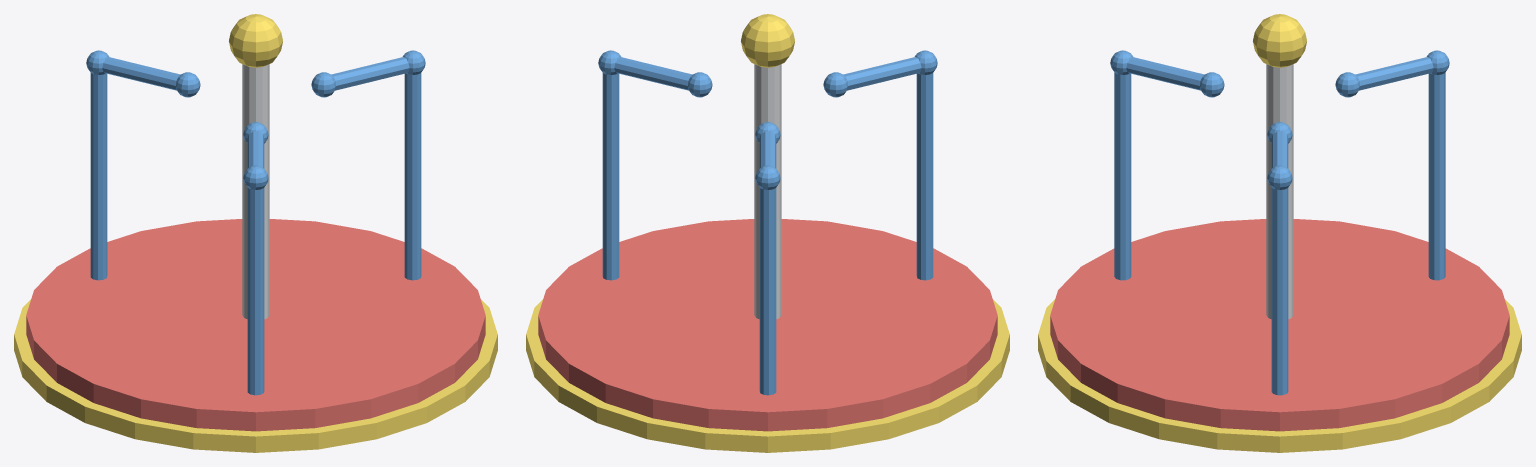
File: th3_karussell.glb
3 views of the same model, side by side, from view 1: azimuth 30°, elevation 25°; view 2: azimuth 150°, elevation 25°; view 3: azimuth 270°, elevation 25° (orthographic).
Parts seen in each view (by area): view 1: Plattform, RandRing, Mittelstange, Buegel_V_2, Buegel_V_0, Buegel_V_1, Knauf, Buegel_H_0, Buegel_H_1, Buegel_H_2, Buegel_E_0, Buegel_E_1 (+1 smaller); view 2: Plattform, RandRing, Mittelstange, Buegel_V_1, Buegel_V_0, Buegel_V_2, Knauf, Buegel_H_0, Buegel_H_2, Buegel_H_1, Buegel_E_0, Buegel_E_2 (+1 smaller); view 3: Plattform, RandRing, Mittelstange, Buegel_V_0, Buegel_V_1, Buegel_V_2, Knauf, Buegel_H_1, Buegel_H_2, Buegel_H_0, Buegel_E_1, Buegel_E_2 (+1 smaller).
Boxes of the visible parts, bbox=[...] form: Plattform: bbox=[26, 219, 485, 431]; RandRing: bbox=[14, 299, 497, 452]; Mittelstange: bbox=[242, 64, 269, 319]; Buegel_V_2: bbox=[247, 188, 264, 395]; Buegel_V_0: bbox=[404, 73, 421, 280]; Buegel_V_1: bbox=[90, 73, 107, 280]; Knauf: bbox=[229, 14, 282, 67]; Buegel_H_0: bbox=[331, 57, 409, 90]; Buegel_H_1: bbox=[102, 57, 180, 90]; Buegel_H_2: bbox=[247, 131, 264, 168]; Buegel_E_0: bbox=[311, 72, 335, 97]; Buegel_E_1: bbox=[176, 72, 200, 97]; Plattform: bbox=[538, 219, 997, 431]; RandRing: bbox=[526, 299, 1009, 452]; Mittelstange: bbox=[754, 64, 781, 319]; Buegel_V_1: bbox=[759, 188, 776, 395]; Buegel_V_0: bbox=[602, 73, 619, 280]; Buegel_V_2: bbox=[916, 73, 933, 280]; Knauf: bbox=[741, 14, 794, 67]; Buegel_H_0: bbox=[614, 57, 692, 90]; Buegel_H_2: bbox=[843, 57, 921, 90]; Buegel_H_1: bbox=[759, 131, 776, 168]; Buegel_E_0: bbox=[688, 72, 712, 97]; Buegel_E_2: bbox=[823, 72, 847, 97]; Plattform: bbox=[1050, 219, 1509, 431]; RandRing: bbox=[1038, 299, 1521, 452]; Mittelstange: bbox=[1266, 64, 1293, 319]; Buegel_V_0: bbox=[1271, 188, 1288, 395]; Buegel_V_1: bbox=[1428, 72, 1445, 280]; Buegel_V_2: bbox=[1114, 72, 1131, 280]; Knauf: bbox=[1253, 14, 1306, 67]; Buegel_H_1: bbox=[1355, 57, 1433, 90]; Buegel_H_2: bbox=[1126, 57, 1204, 90]; Buegel_H_0: bbox=[1271, 131, 1288, 168]; Buegel_E_1: bbox=[1335, 72, 1359, 97]; Buegel_E_2: bbox=[1200, 72, 1224, 97].
Bounding box in the file's own units: 1.6 × 1.22 × 1.6.
